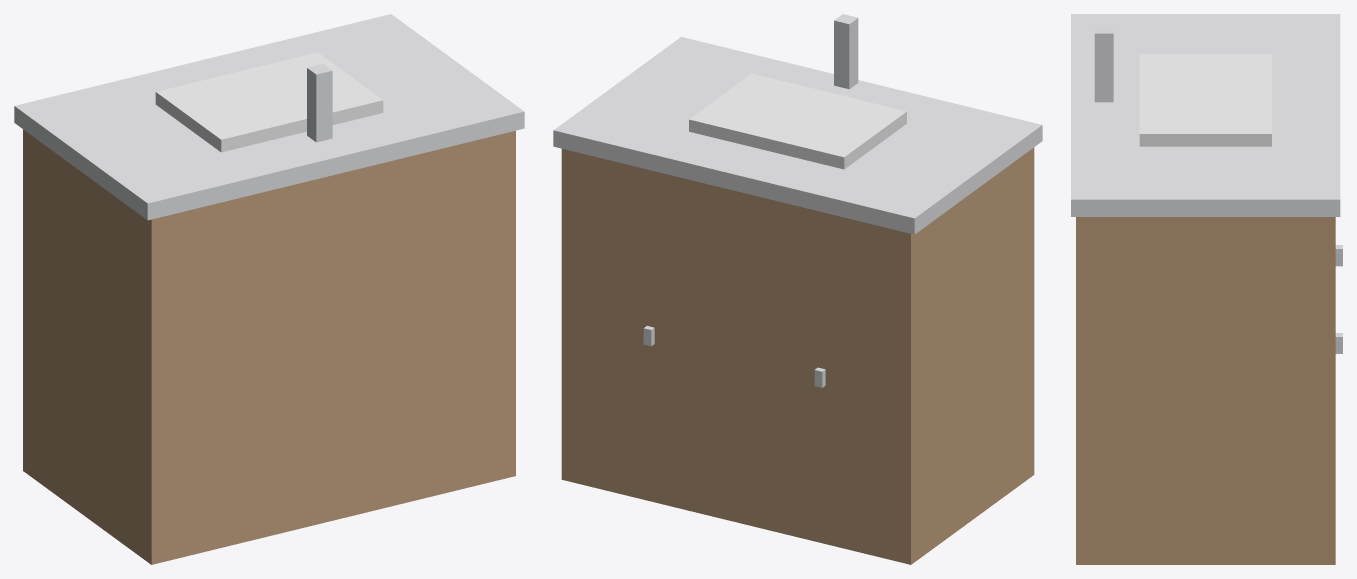
Rendered from vanity.glb.
3 views of the same model, side by side, from view 1: azimuth 30°, elevation 25°; view 2: azimuth 150°, elevation 25°; view 3: azimuth 270°, elevation 25° (orthographic). The views are drawn at different scales.
Visible parts, largest first — view 1: vanity_0, vanity_1, vanity_2, vanity_4; view 2: vanity_0, vanity_1, vanity_2, vanity_4; view 3: vanity_0, vanity_1, vanity_2, vanity_4.
Boxes of the visible parts, x1,y1,x2,y2 form: vanity_0: (23, 129, 515, 564); vanity_1: (14, 14, 524, 220); vanity_2: (155, 52, 383, 152); vanity_4: (307, 64, 332, 142); vanity_0: (561, 147, 1034, 564); vanity_1: (553, 37, 1042, 234); vanity_2: (689, 73, 906, 169); vanity_4: (834, 14, 858, 89); vanity_0: (1076, 217, 1335, 564); vanity_1: (1071, 14, 1340, 216); vanity_2: (1139, 54, 1271, 146); vanity_4: (1094, 25, 1113, 102).
Size of the model in its own units: 0.93 by 1.04 by 0.575.
